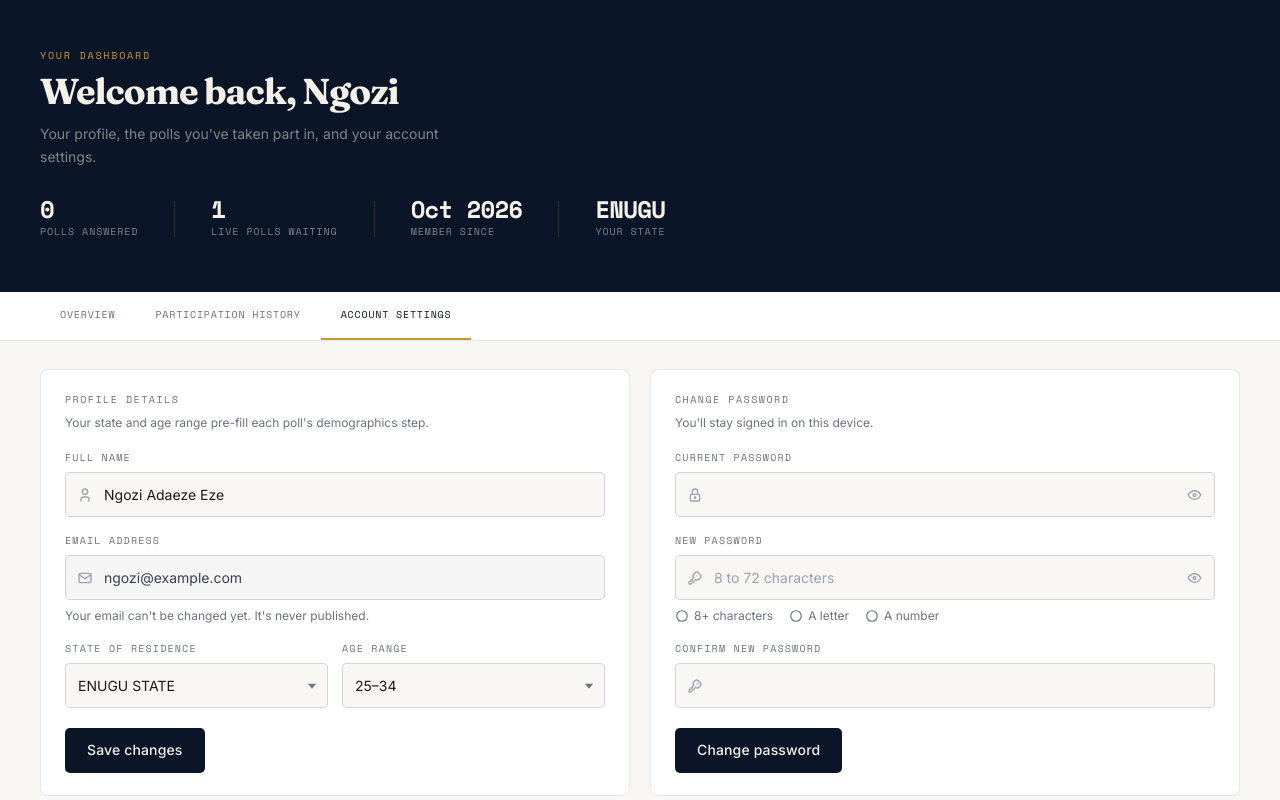
Test: profile details › checks the name and shows the API’s field errors
expect the form named "Profile details" is shown: met, box top-left (65, 450), bottom-right (605, 773)
Step 1. Replace the text in the field labelled "Full name" with "Amaka" → [335, 495], box top-left (65, 472), bottom-right (605, 517)
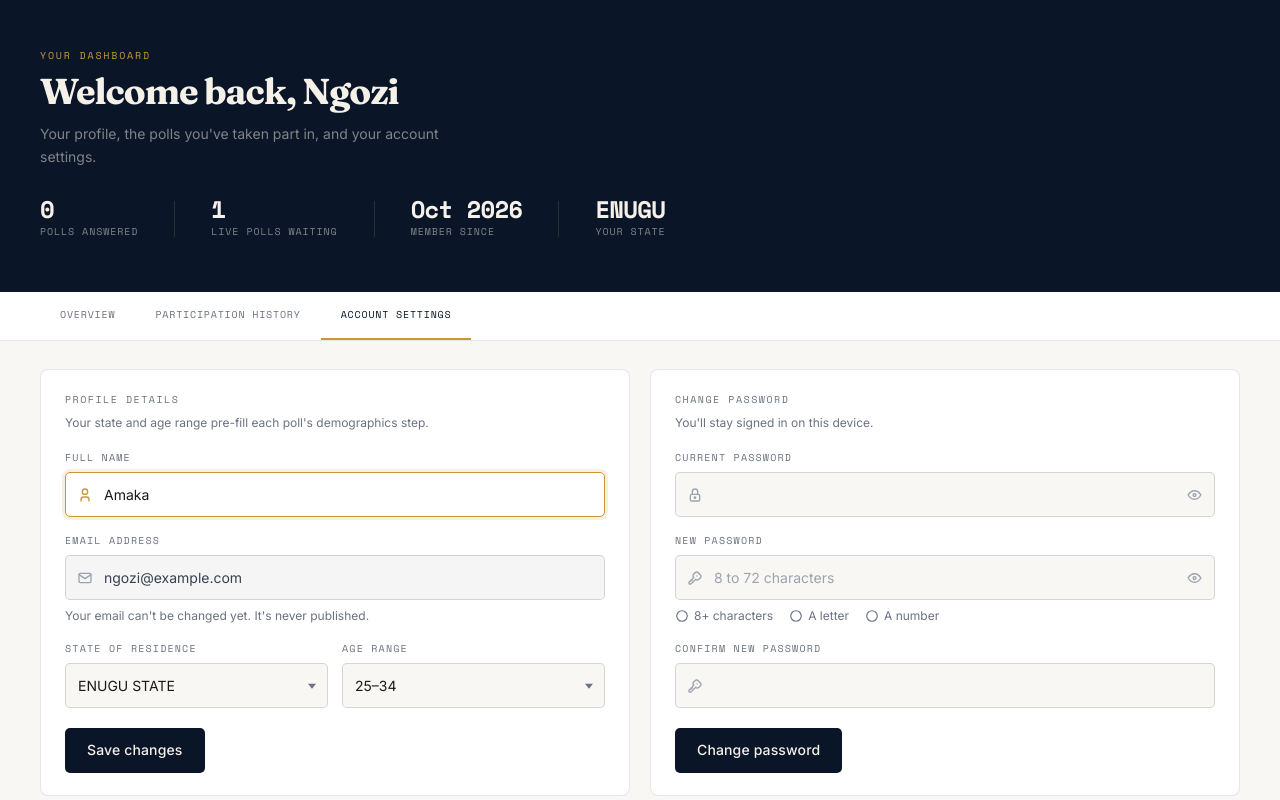
Step 2. Click the button "Save changes" → [135, 751], box top-left (65, 728), bottom-right (204, 773)
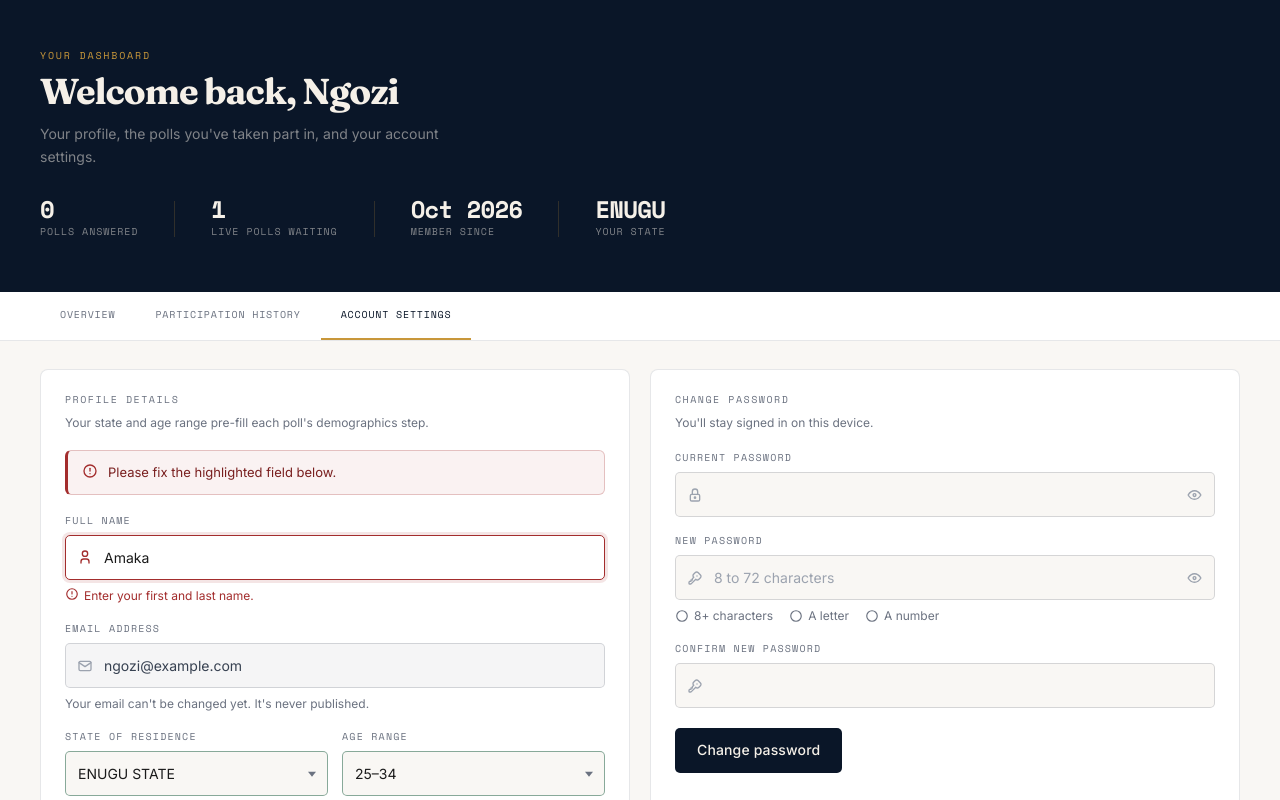
Step 3. Type " Obi" into the field labelled "Full name" → [335, 558], box top-left (65, 535), bottom-right (605, 580)
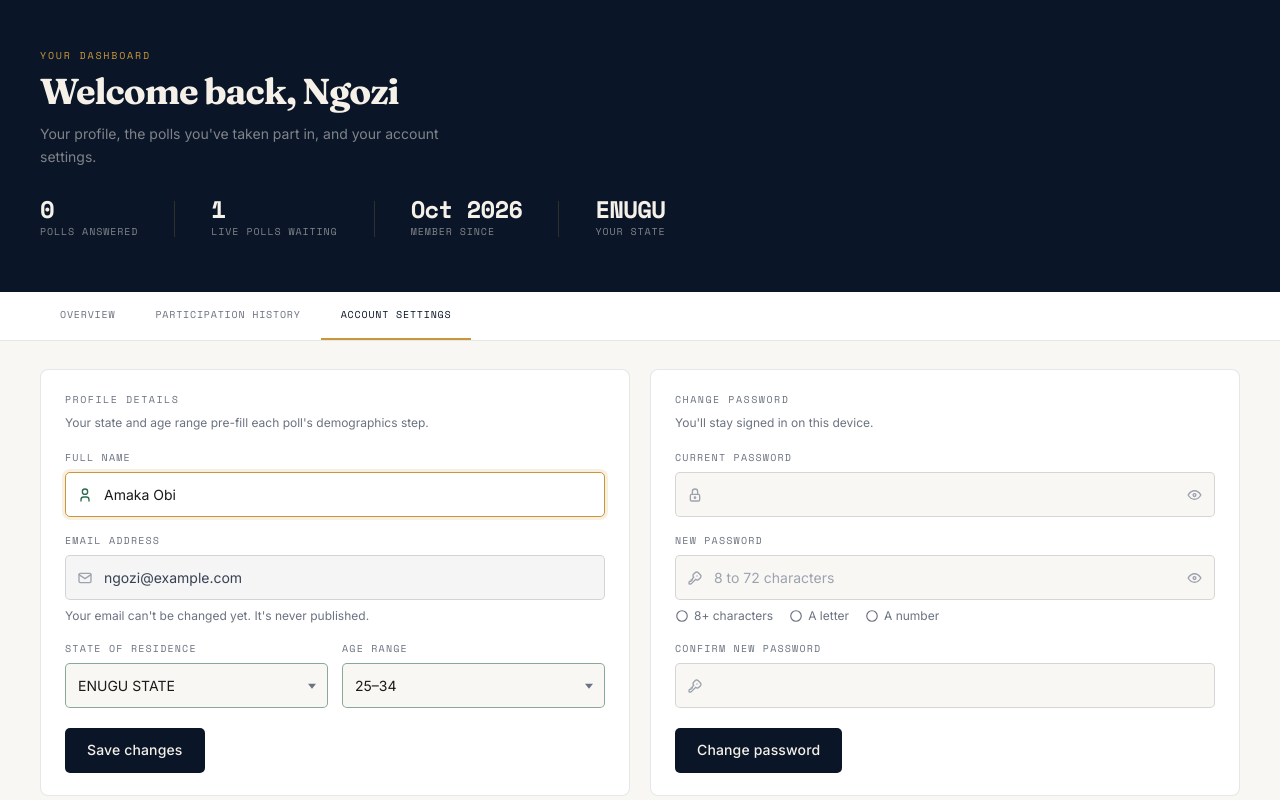
Step 4. Click the button "Save changes" → [135, 751], box top-left (65, 728), bottom-right (204, 773)
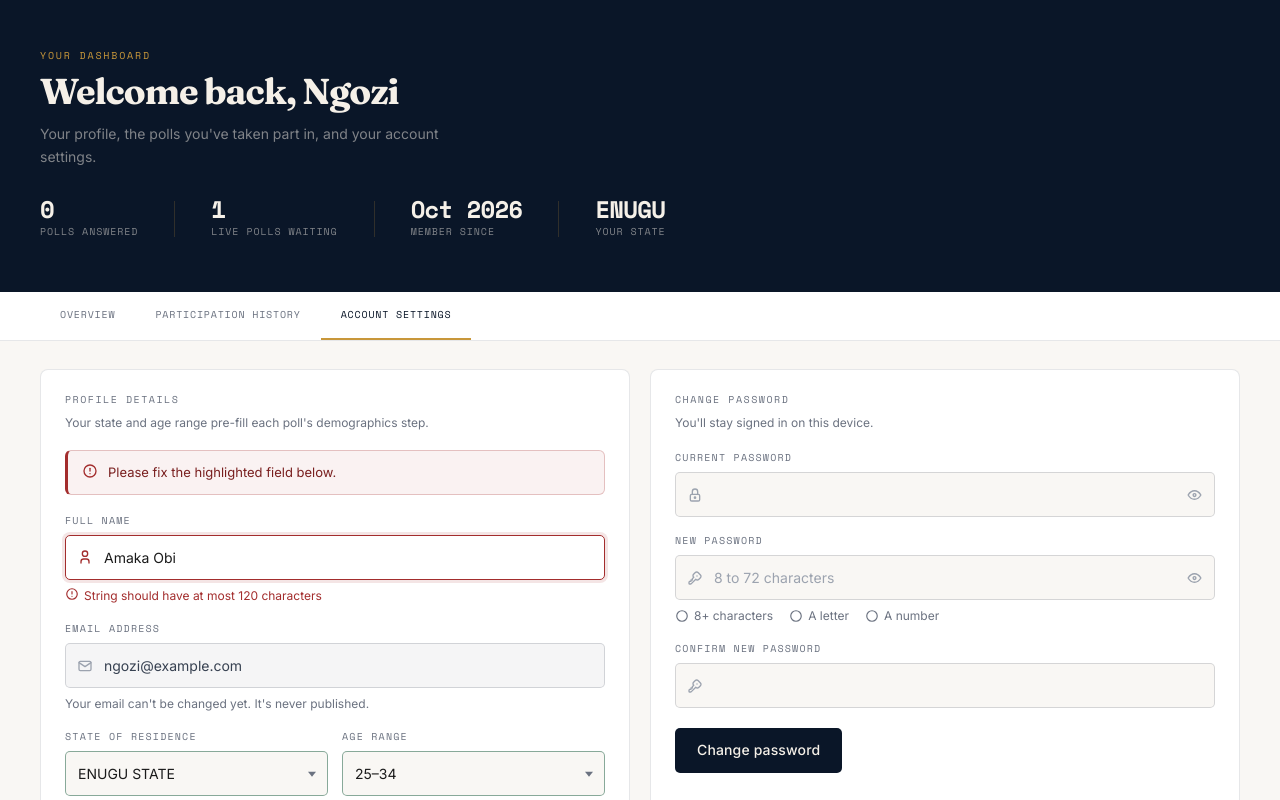
expect the text "String should have at most 120 characters" is shown: met, box top-left (84, 586), bottom-right (322, 605)
